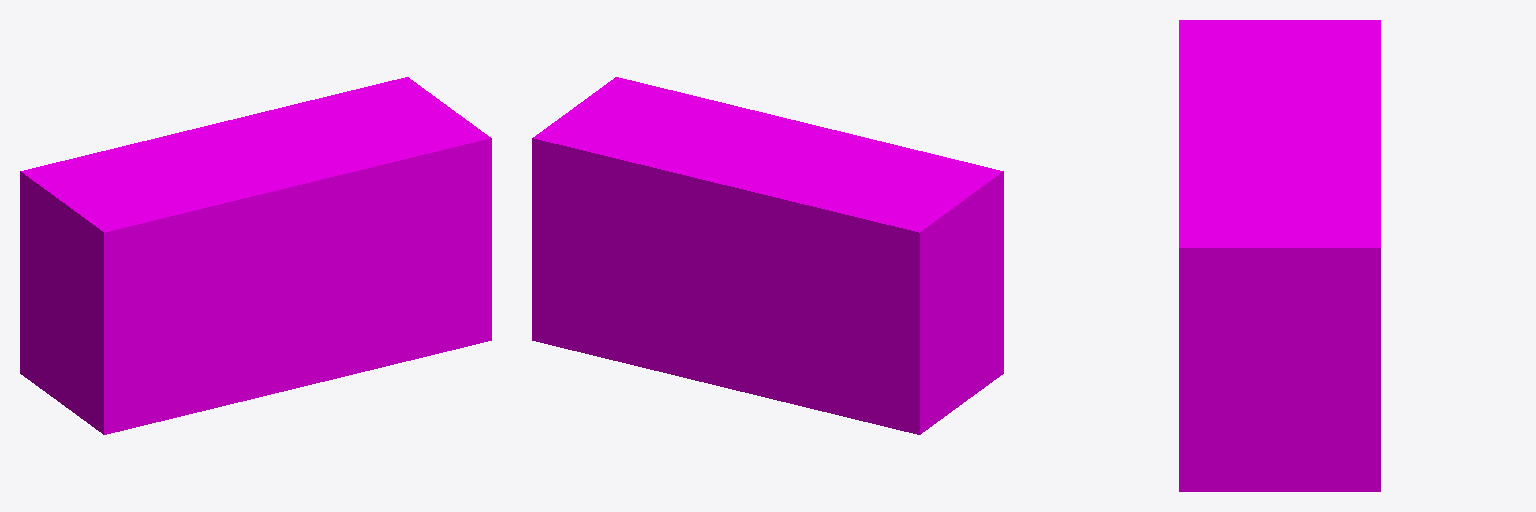
The robot description file, URDF, robot "simple_box":
<?xml version="1.0"?>
<robot name="simple_box">
  <link name="base_link">
    <visual>
      <geometry>
        <box size="0.8 0.3 0.4"/>
      </geometry>
      <material name="blue">
        <color rgba="1 0 1 1"/>
      </material>
    </visual>
    <collision>
      <geometry>
        <box size="0.8 0.3 0.4"/>
      </geometry>
    </collision>
    <inertial>
      <mass value="1.0"/>
      <inertia ixx="0.145833" ixy="0.0" ixz="0.0" iyy="0.145833" iyz="0.0" izz="0.125"/>
    </inertial>
  </link>

  <gazebo reference="base_link">
    <material>Gazebo/Red</material>
  </gazebo>

</robot>

--- Render facts (derived) ---
Views: 3 orthographic renders of the robot side by side, from view 1: azimuth 30°, elevation 25°; view 2: azimuth 150°, elevation 25°; view 3: azimuth 270°, elevation 25°.
Model simple_box with 1 links and 0 joints (none), rooted at base_link, posed all joints at 0.
Links seen in each view (by area): view 1: base_link; view 2: base_link; view 3: base_link.
Link boxes in pixels (x1,y1,x2,y2): base_link: (20, 77, 491, 434); base_link: (532, 77, 1003, 434); base_link: (1179, 20, 1380, 491).
Bounding box of the posed robot: 0.8 × 0.3 × 0.4 m (x, y, z).
Geometry: primitives only (box / cylinder / sphere), no mesh files.